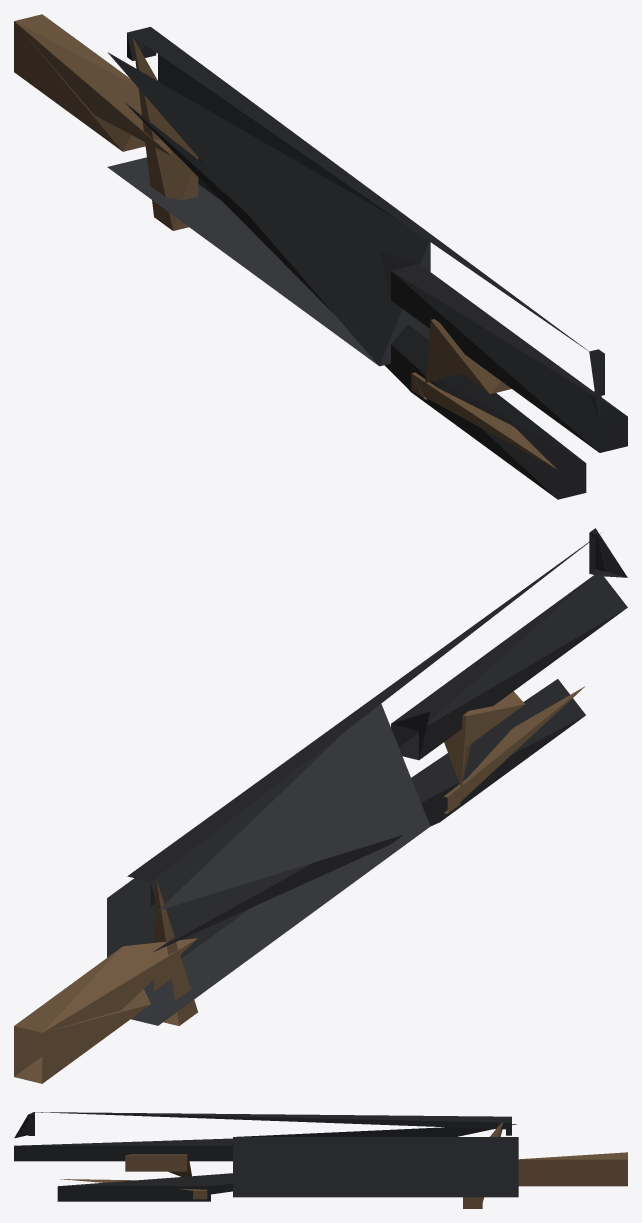
Rendered from stakeout.obj.
3 views of the same model, one above another, from view 1: azimuth 30°, elevation 25°; view 2: azimuth 150°, elevation 25°; view 3: azimuth 270°, elevation 25° (orthographic). The views are drawn at different scales.
Bounding box in the file's own units: 0.065 × 0.2145 × 1.29.
